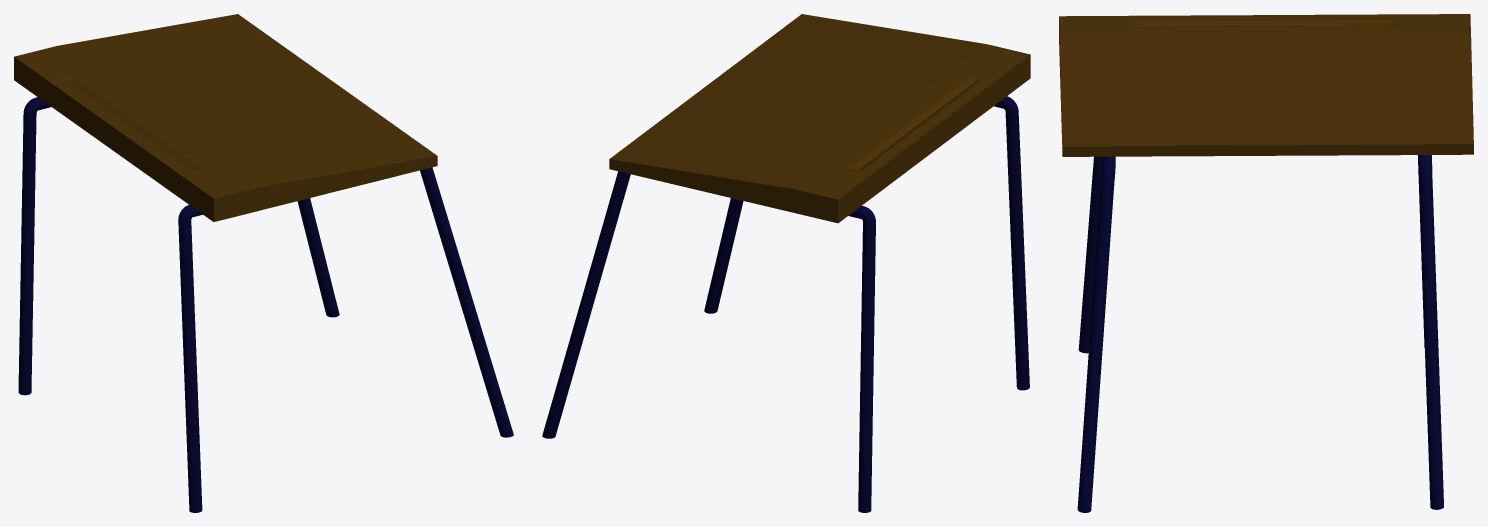
File: desk.dae
The picture shows the model from 3 angles, left to right: view 1: azimuth 30°, elevation 25°; view 2: azimuth 150°, elevation 25°; view 3: azimuth 270°, elevation 25°; orthographic projection. The views are drawn at different scales.
Visible parts, largest first — view 1: Desk, Cylinder, Cylinder.001; view 2: Desk, Cylinder.001, Cylinder; view 3: Desk, Cylinder, Cylinder.001.
Boxes of the visible parts, bbox=[...] form: Desk: bbox=[14, 14, 437, 221]; Cylinder: bbox=[178, 167, 513, 512]; Cylinder.001: bbox=[18, 97, 339, 395]; Desk: bbox=[609, 14, 1030, 223]; Cylinder.001: bbox=[542, 171, 875, 512]; Cylinder: bbox=[704, 96, 1029, 390]; Desk: bbox=[1059, 14, 1473, 156]; Cylinder: bbox=[1077, 156, 1115, 512]; Cylinder.001: bbox=[1417, 155, 1443, 509].
Bounding box in the file's own units: 2.92 × 3.03 × 2.71.
